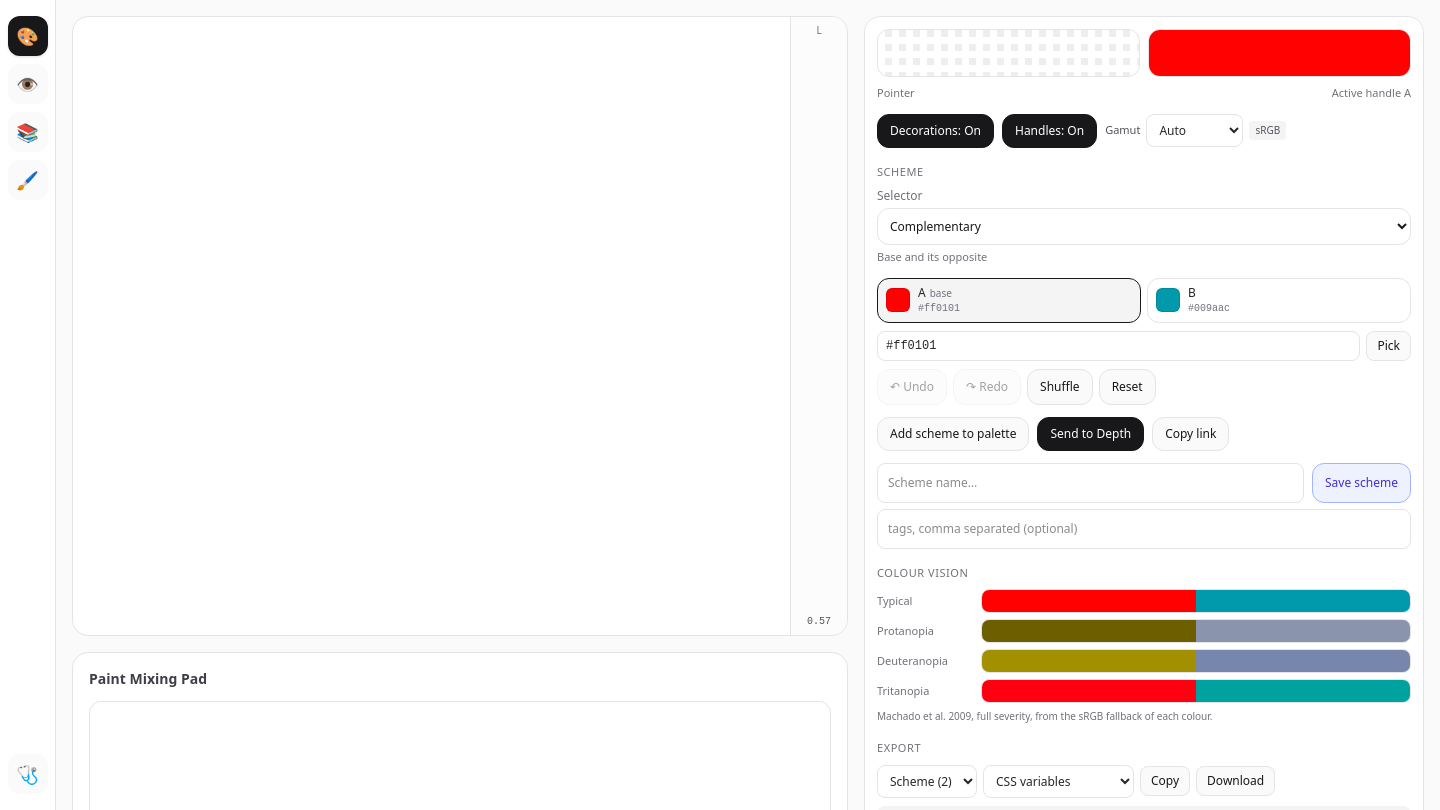
Library page › saves a scheme from the artist sidebar and it appears first in the library
The image size is (1440, 810).
Select "Triadic" in the dropdown labelled "Selector": (1144, 226) x1=877 y1=208 x2=1411 y2=245
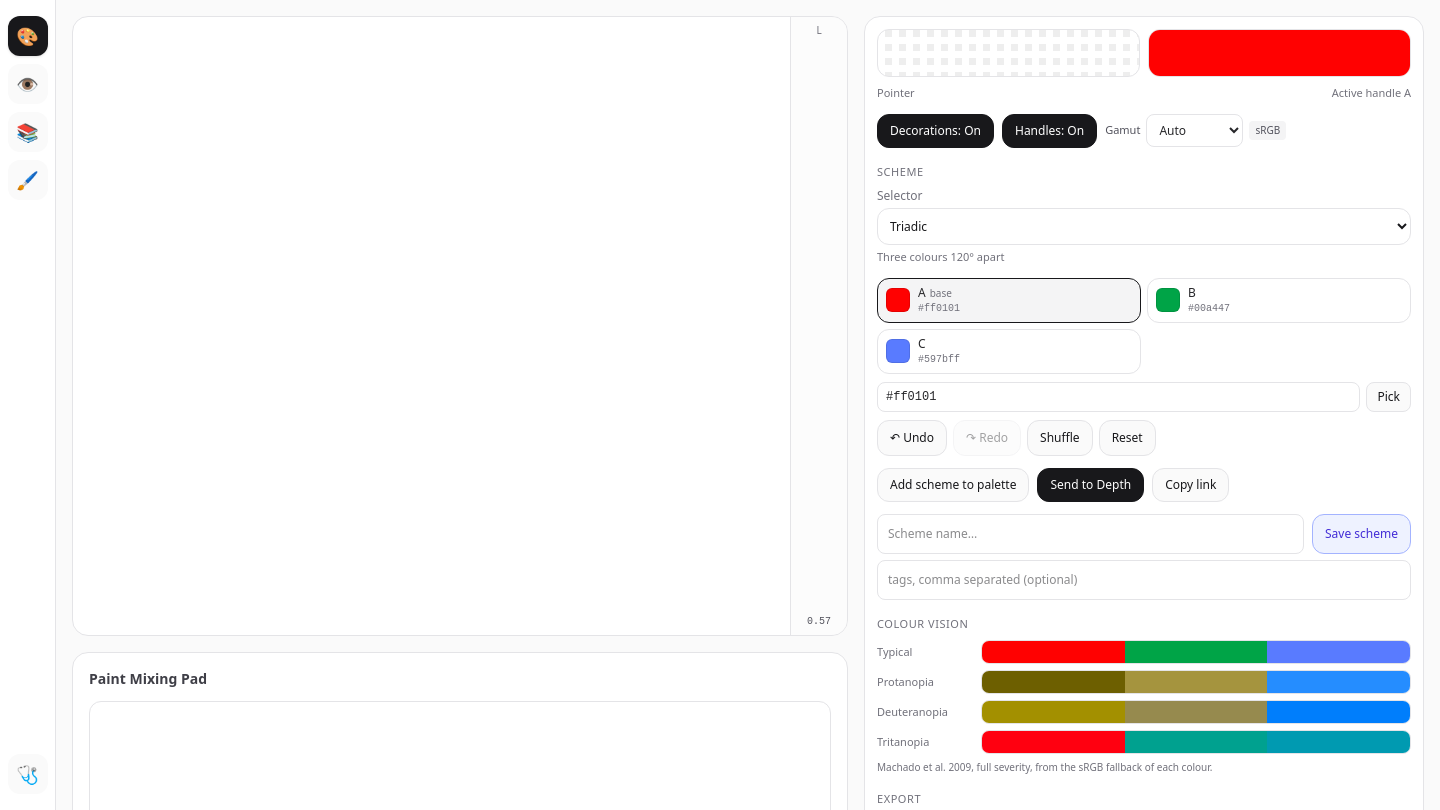
In the field labelled "Scheme name…": (1090, 534) x1=877 y1=514 x2=1304 y2=554, type "My triad"
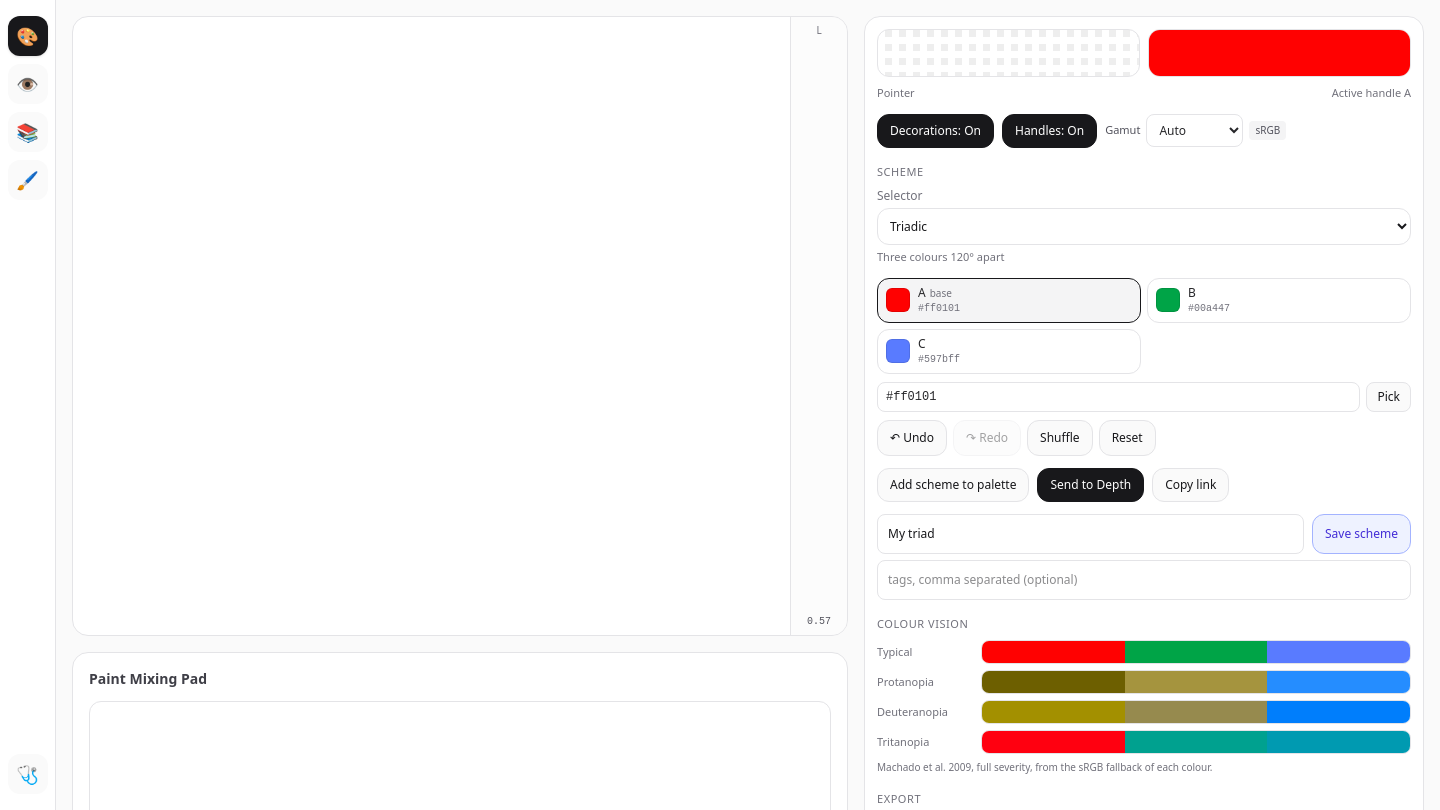
In the field named "Scheme tags": (1144, 580) x1=877 y1=560 x2=1411 y2=600, type "Test, Warm"
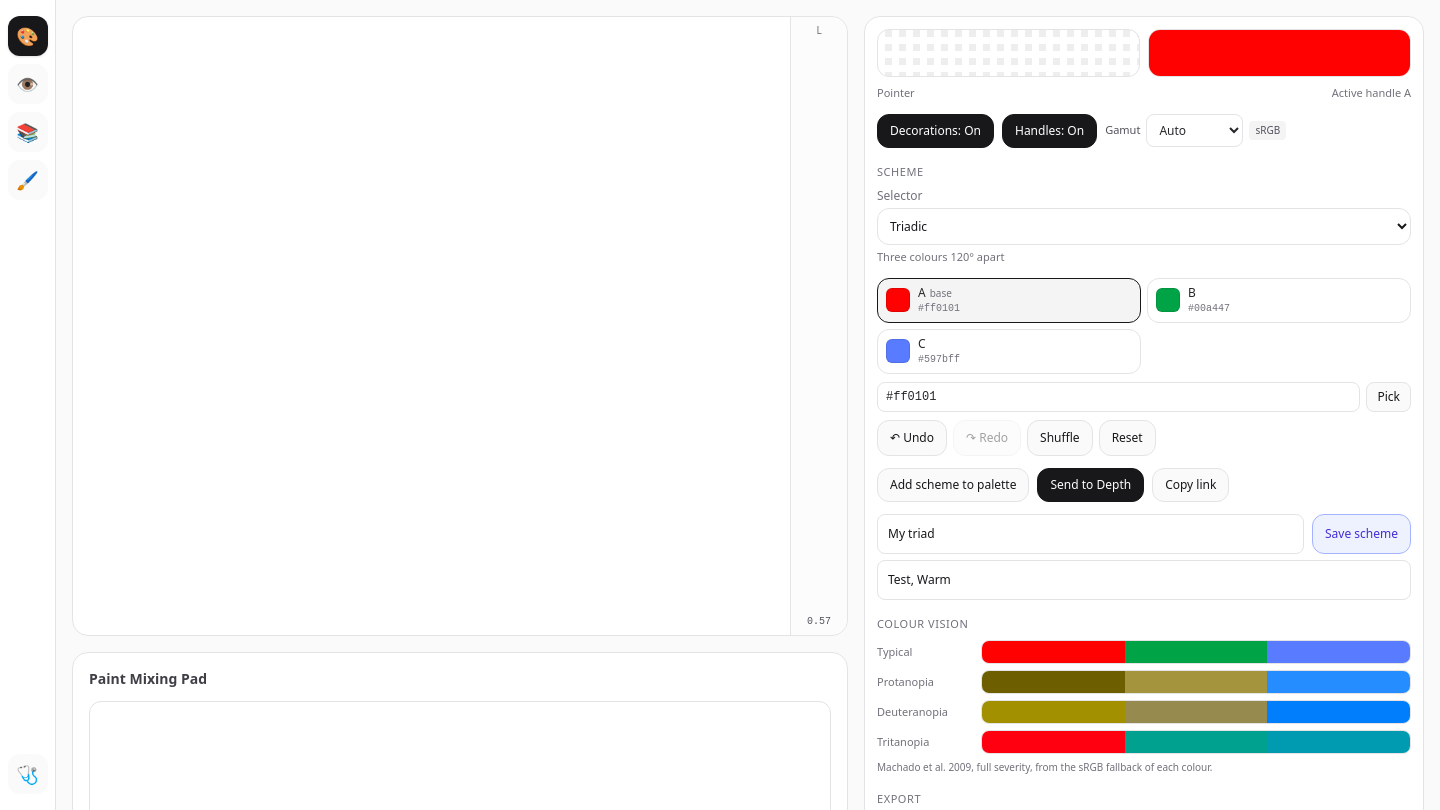
Click the button "Save scheme": (1362, 534) x1=1312 y1=514 x2=1411 y2=554
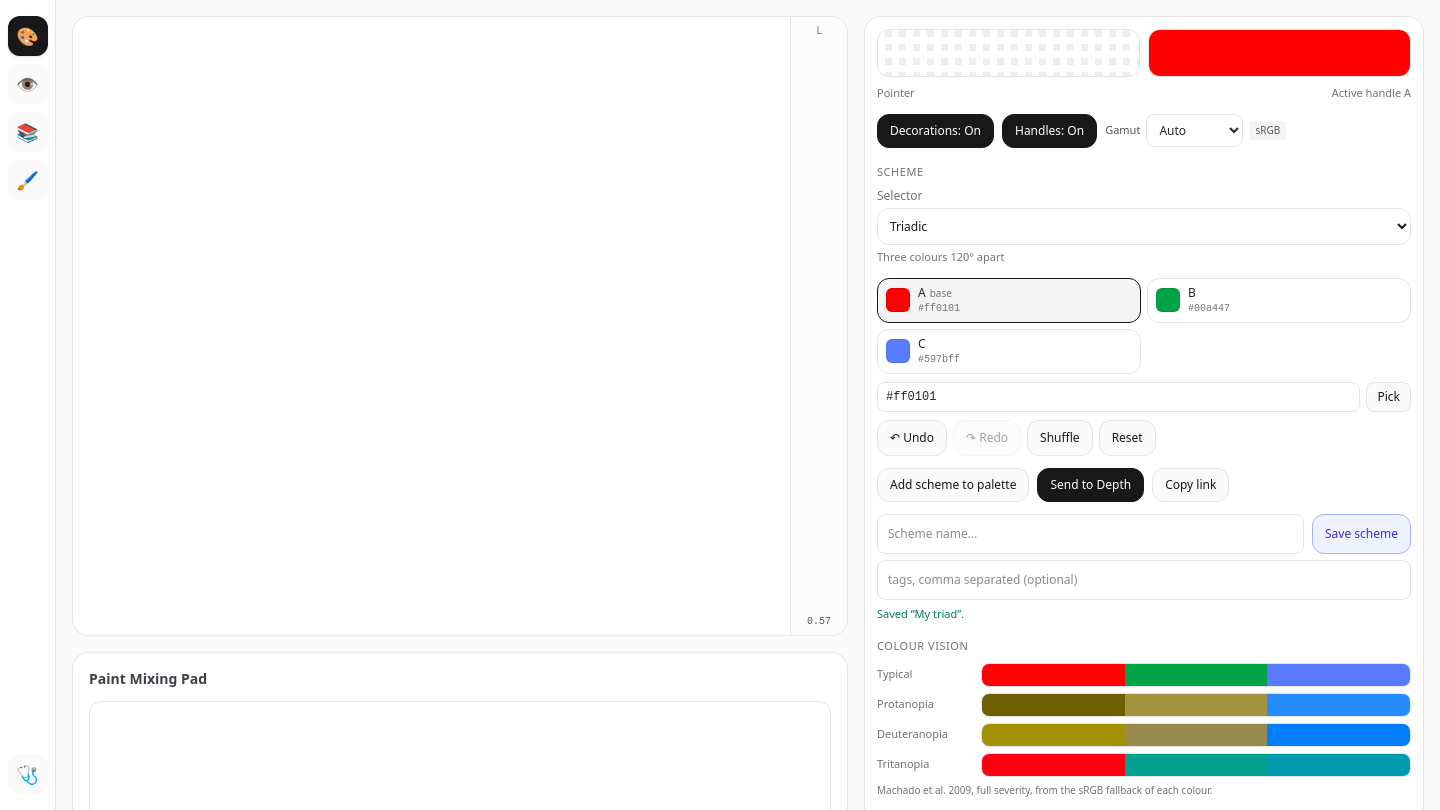
Now the message shows "Saved “My triad”", box x1=877 y1=606 x2=964 y2=620
Click the button named "scheme library": (28, 132) x1=8 y1=112 x2=48 y2=152
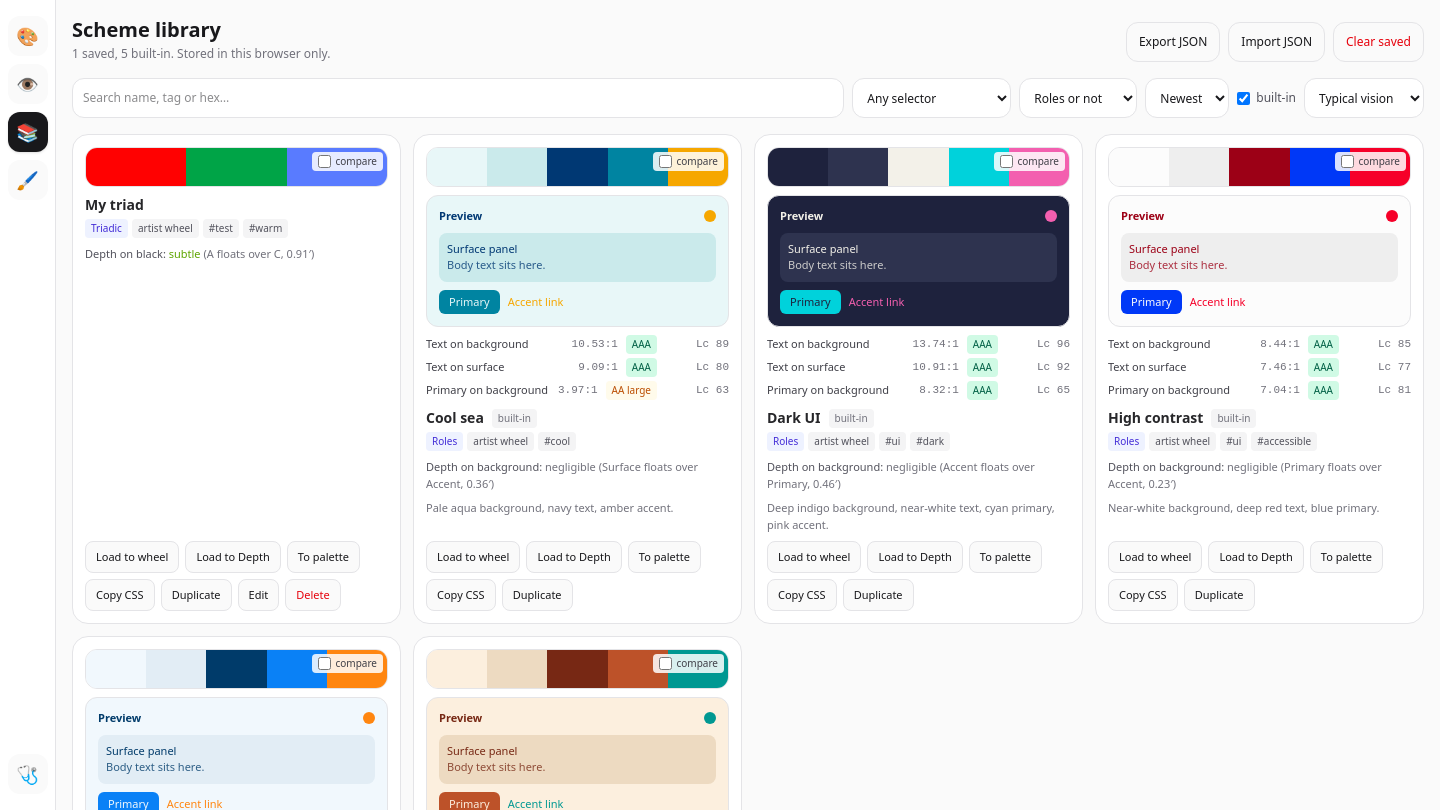
Now the element named "My triad" shows "My triad", box x1=85 y1=195 x2=144 y2=214
Now the element named "My triad" shows "Triadic", box x1=91 y1=221 x2=122 y2=235
Now the element named "My triad" shows "#test", box x1=72 y1=134 x2=401 y2=624
